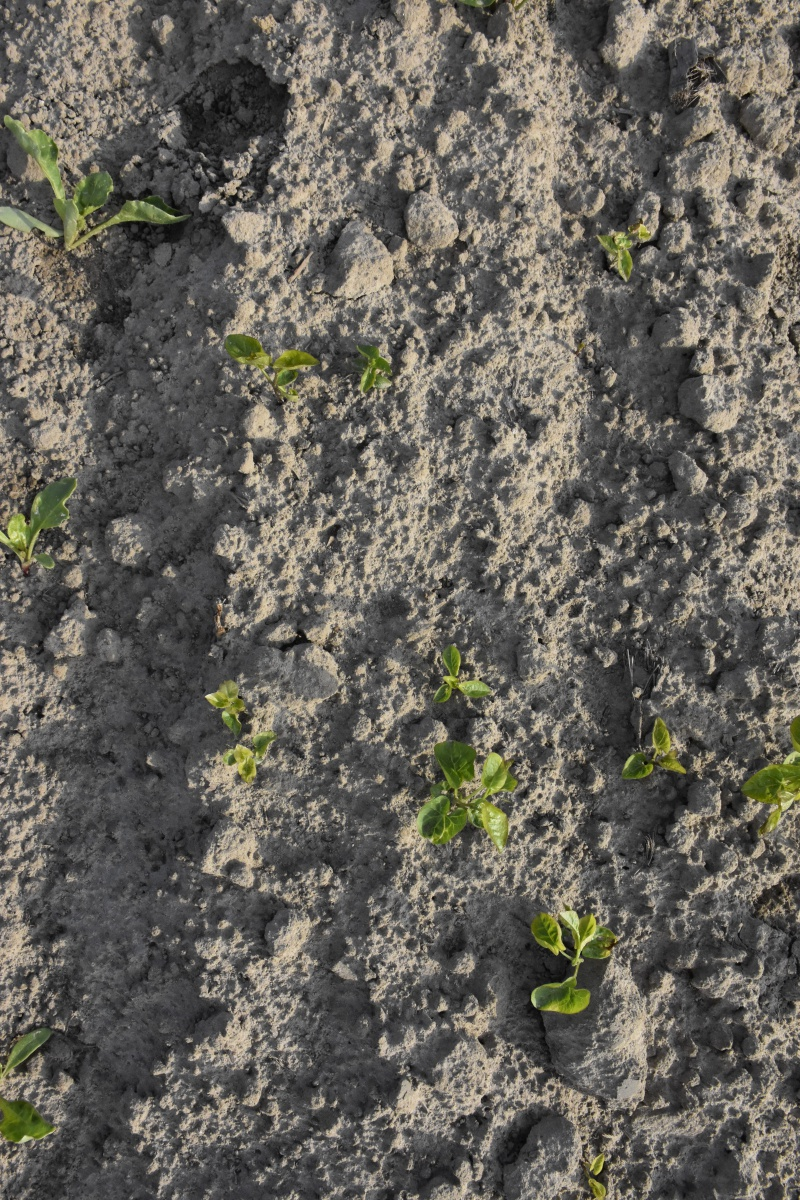field bindweed: (408, 738, 531, 868), (223, 324, 398, 404), (523, 904, 620, 1019), (201, 679, 271, 792), (617, 715, 700, 792), (584, 218, 657, 278), (428, 645, 493, 709)
sugar beet: (1, 112, 193, 255), (1, 459, 84, 582)
